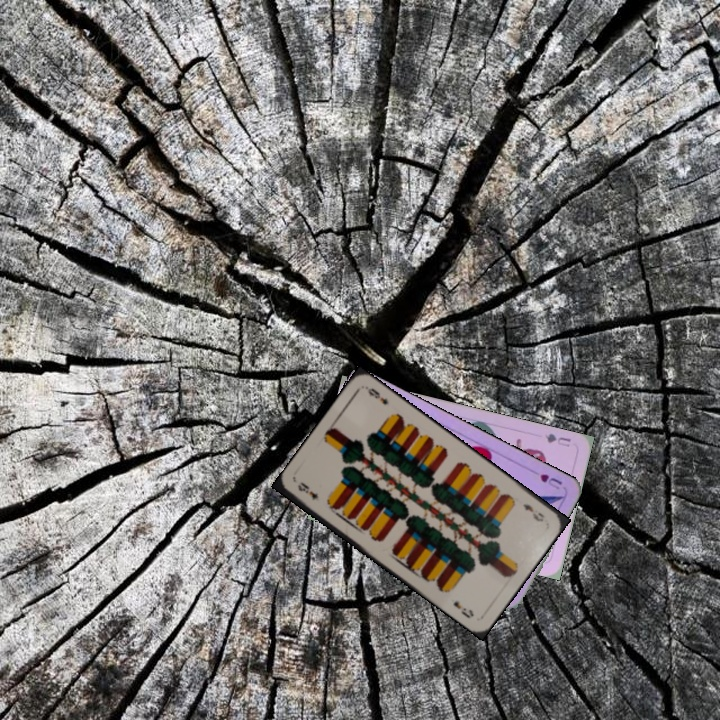E9: (519, 499, 546, 525), (294, 478, 321, 503)
GU: (541, 429, 574, 450)
HU: (536, 470, 565, 492)
